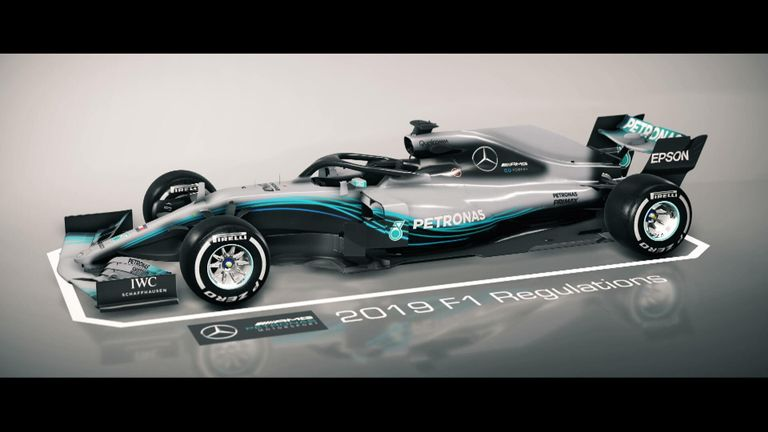f1_car: (41, 105, 713, 316)
